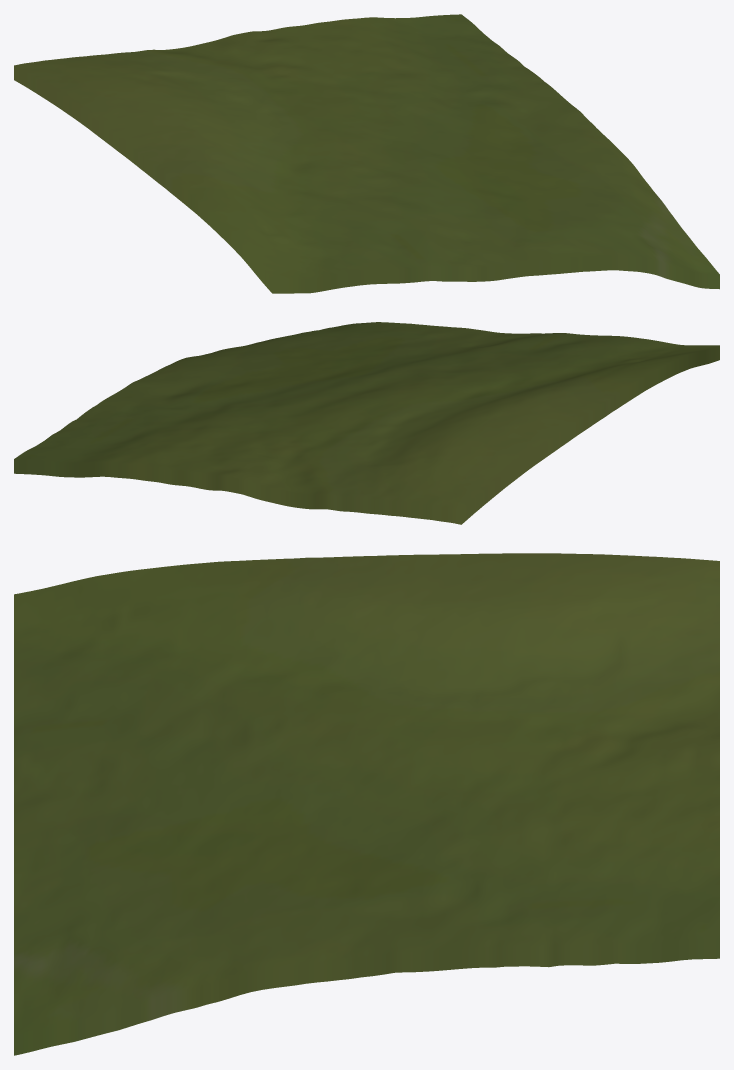
File: terrain_2_-5.glb
3 renders of one model, top to bottom at view 1: azimuth 30°, elevation 25°; view 2: azimuth 150°, elevation 25°; view 3: azimuth 270°, elevation 25°, orthographic. The views are drawn at different scales.
Parts seen in each view (by area): view 1: terrain_2_-5; view 2: terrain_2_-5; view 3: terrain_2_-5.
Boxes of the visible parts, x1,y1,x2,y2 form: terrain_2_-5: (14, 14, 719, 293); terrain_2_-5: (14, 322, 719, 524); terrain_2_-5: (14, 553, 719, 1055).
Bounding box in the file's own units: 256 × 81.83 × 256.
